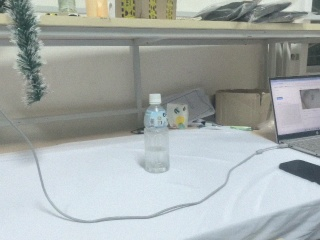bottle: (139, 92, 171, 174)
box: (213, 88, 273, 131)
mouse: (279, 158, 320, 191)
